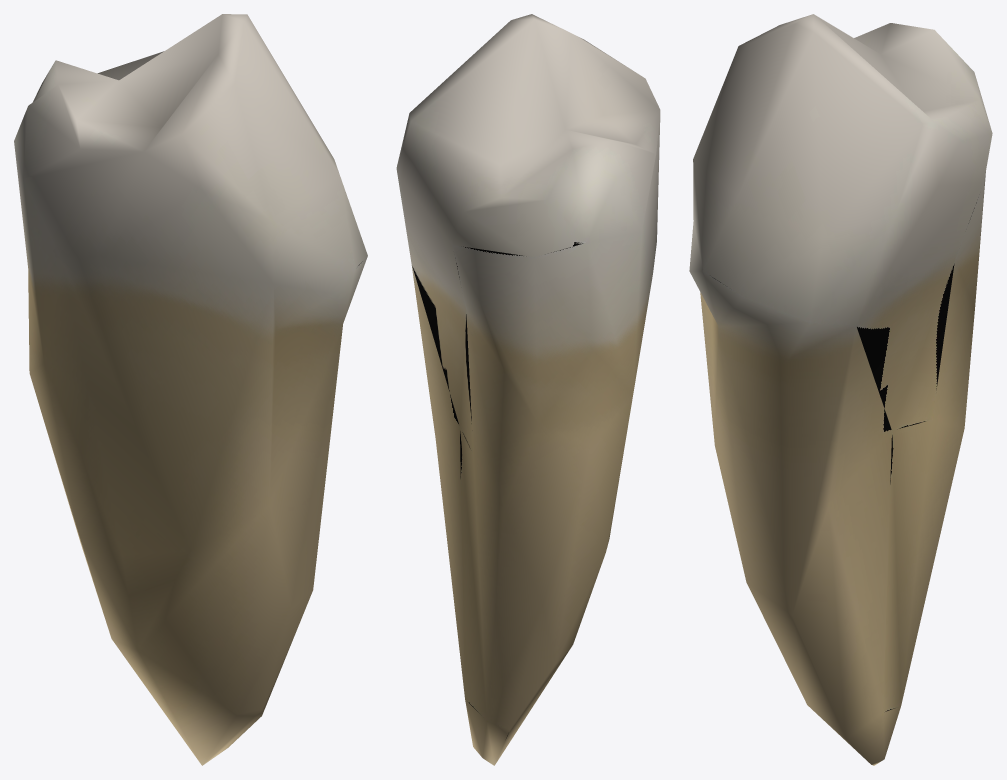
3 renders of one model, left to right at view 1: azimuth 30°, elevation 25°; view 2: azimuth 150°, elevation 25°; view 3: azimuth 270°, elevation 25°, orthographic. The views are drawn at different scales.
Visible parts, largest first — view 1: Object_2; view 2: Object_2; view 3: Object_2.
Boxes of the visible parts, x1,y1,x2,y2 form: Object_2: (14, 14, 367, 765); Object_2: (396, 14, 660, 765); Object_2: (689, 14, 992, 765).
Size of the model in its own units: 0.3375 by 0.8778 by 0.323.
1 material, 1 textured.
